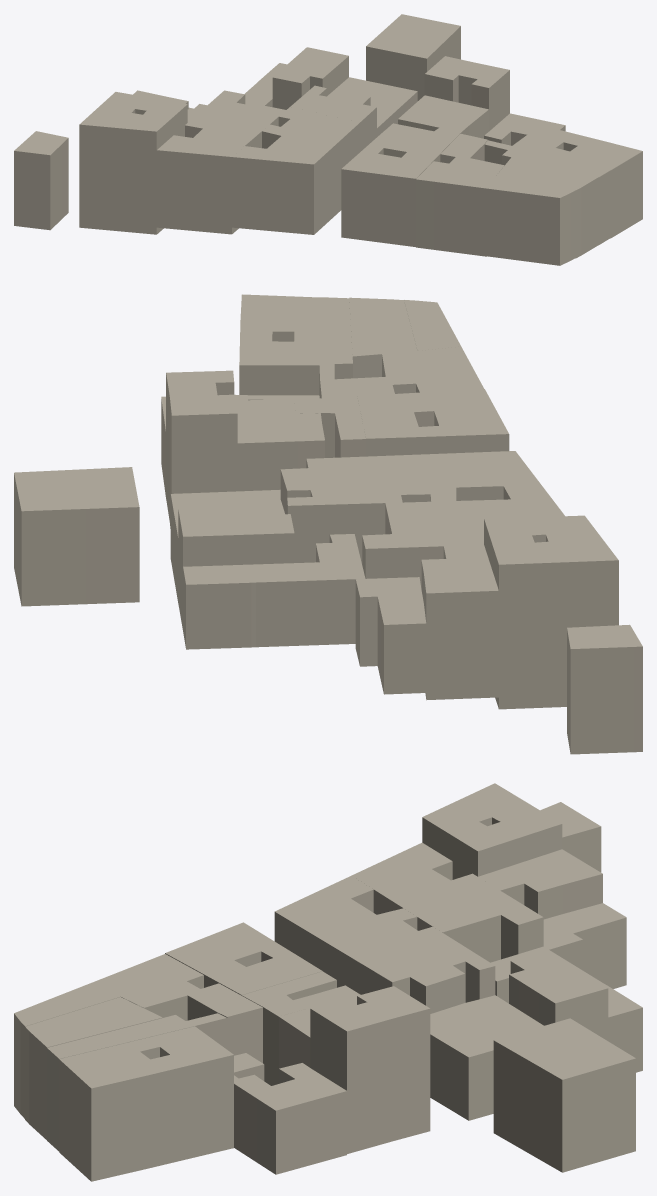
Rendered from senglea_57_26_mid.glb.
The picture shows the model from 3 angles, top to bottom: view 1: azimuth 30°, elevation 25°; view 2: azimuth 150°, elevation 25°; view 3: azimuth 270°, elevation 25°; orthographic projection. The views are drawn at different scales.
Visible parts, largest first — view 1: geometry_0; view 2: geometry_0; view 3: geometry_0.
Boxes of the visible parts, box(x1,y1,x2,y2) form: geometry_0: box(14, 14, 642, 265); geometry_0: box(14, 294, 642, 754); geometry_0: box(14, 783, 642, 1181).
Size of the model in its own units: 71.66 by 16.64 by 62.36.
